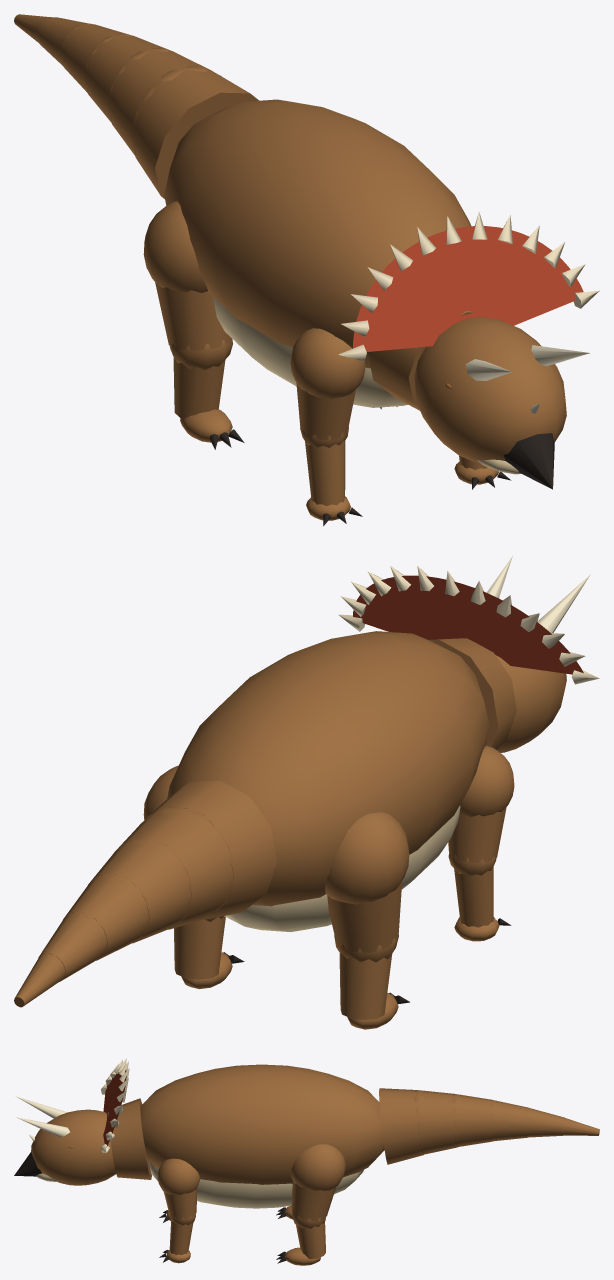
The model's file is dino_trice.glb.
The picture shows the model from 3 angles, top to bottom: view 1: azimuth 30°, elevation 25°; view 2: azimuth 150°, elevation 25°; view 3: azimuth 270°, elevation 25°; orthographic projection. The views are drawn at different scales.
Visible parts, largest first — view 1: dino_hips, dino_head, dino_legs_2_hip, dino_tail_0_p, dino_legs_0_hip, dino_tail_1_p, dino_legs_2_knee, dino_tail_2_p, dino_legs_0_knee, dino_neckBase, dino_tail_3_p, dino_legs_2_ankle (+3 smaller); view 2: dino_hips, dino_head, dino_legs_2_hip, dino_tail_0_p, dino_tail_1_p, dino_tail_2_p, dino_legs_0_hip, dino_tail_3_p, dino_legs_2_knee, dino_neckBase, dino_legs_3_knee, dino_tail_4_p (+6 smaller); view 3: dino_hips, dino_head, dino_legs_3_hip, dino_tail_0_p, dino_neckBase, dino_tail_1_p, dino_legs_1_hip, dino_tail_2_p, dino_tail_3_p, dino_legs_3_knee, dino_tail_4_p, dino_legs_1_knee (+2 smaller).
Boxes of the visible parts, x1=… form: dino_hips: x1=164, y1=99, x2=471, y2=407; dino_head: x1=338, y1=212, x2=599, y2=489; dino_legs_2_hip: x1=143, y1=201, x2=231, y2=350; dino_tail_0_p: x1=130, y1=69, x2=258, y2=198; dino_legs_0_hip: x1=290, y1=328, x2=365, y2=440; dino_tail_1_p: x1=107, y1=50, x2=221, y2=155; dino_legs_2_knee: x1=169, y1=338, x2=232, y2=419; dino_tail_2_p: x1=83, y1=35, x2=171, y2=122; dino_legs_0_knee: x1=300, y1=427, x2=348, y2=506; dino_neckBase: x1=367, y1=311, x2=474, y2=410; dino_tail_3_p: x1=60, y1=24, x2=131, y2=92; dino_legs_2_ankle: x1=180, y1=409, x2=244, y2=449; dino_hips: x1=167, y1=631, x2=489, y2=932; dino_head: x1=338, y1=556, x2=599, y2=752; dino_legs_2_hip: x1=325, y1=812, x2=409, y2=952; dino_tail_0_p: x1=139, y1=780, x2=276, y2=919; dino_tail_1_p: x1=113, y1=806, x2=234, y2=929; dino_tail_2_p: x1=88, y1=838, x2=192, y2=943; dino_legs_0_hip: x1=448, y1=745, x2=514, y2=862; dino_tail_3_p: x1=63, y1=873, x2=149, y2=960; dino_legs_2_knee: x1=334, y1=934, x2=398, y2=1019; dino_neckBase: x1=429, y1=638, x2=516, y2=749; dino_legs_3_knee: x1=174, y1=916, x2=225, y2=979; dino_tail_4_p: x1=38, y1=911, x2=108, y2=981; dino_hips: x1=140, y1=1064, x2=384, y2=1208; dino_head: x1=14, y1=1058, x2=129, y2=1185; dino_legs_3_hip: x1=290, y1=1144, x2=345, y2=1221; dino_tail_0_p: x1=379, y1=1088, x2=423, y2=1164; dino_neckBase: x1=108, y1=1098, x2=151, y2=1179; dino_tail_1_p: x1=414, y1=1090, x2=457, y2=1154; dino_legs_1_hip: x1=157, y1=1158, x2=199, y2=1219; dino_tail_2_p: x1=452, y1=1094, x2=492, y2=1146; dino_tail_3_p: x1=490, y1=1100, x2=529, y2=1141; dino_legs_3_knee: x1=292, y1=1210, x2=325, y2=1258; dino_tail_4_p: x1=525, y1=1107, x2=564, y2=1137; dino_legs_1_knee: x1=169, y1=1212, x2=195, y2=1255.
Bounding box in the file's own units: 3 × 3.48 × 10.6.
